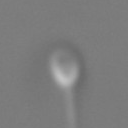normal: (57, 88, 85, 128)
